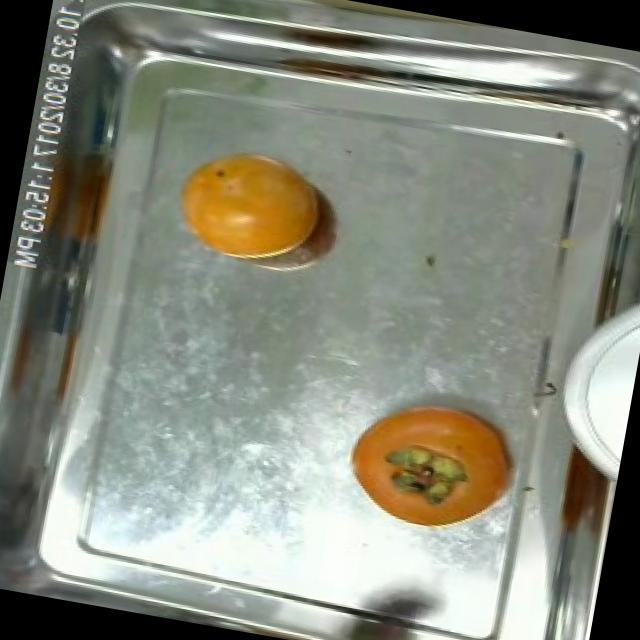Fruit: (324, 374, 542, 554), (164, 136, 335, 274)
